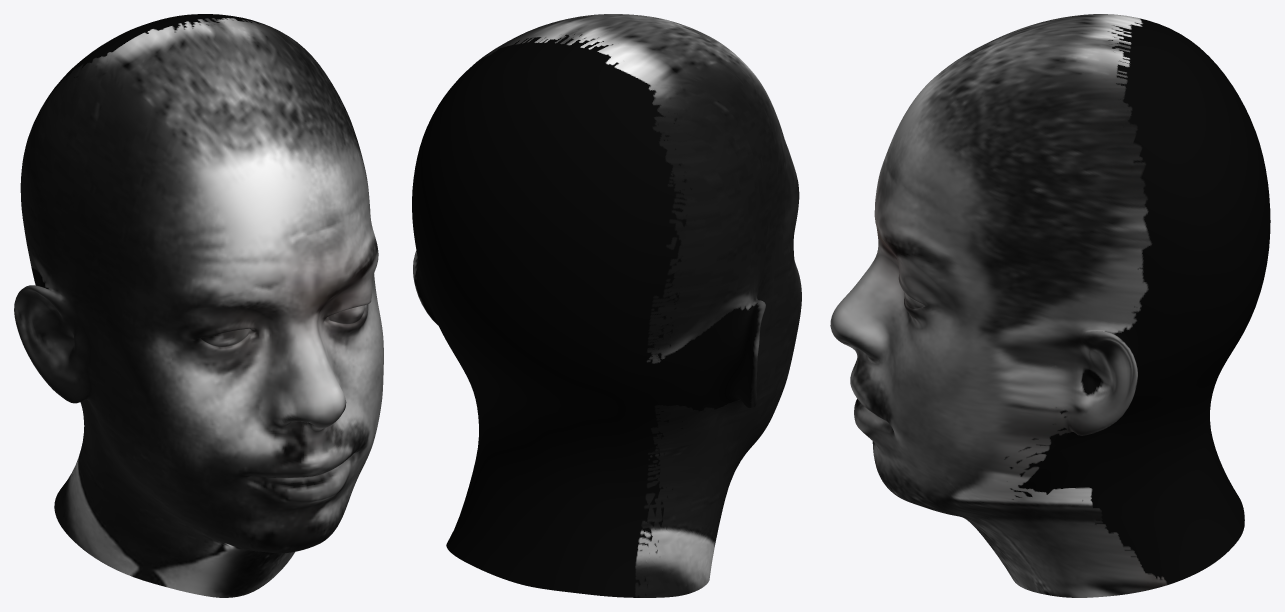
The model's file is dolphy.glb.
The picture shows the model from 3 angles, left to right: view 1: azimuth 30°, elevation 25°; view 2: azimuth 150°, elevation 25°; view 3: azimuth 270°, elevation 25°; orthographic projection. The views are drawn at different scales.
Parts seen in each view (by area): view 1: FBHead.007; view 2: FBHead.007; view 3: FBHead.007.
Part boxes in pixels (x1,y1,x2,y2): FBHead.007: (14,14,383,597); FBHead.007: (412,14,801,597); FBHead.007: (830,14,1270,597).
Size of the model in its own units: 1.5 by 2.3 by 1.69.
1 material, 1 textured.
